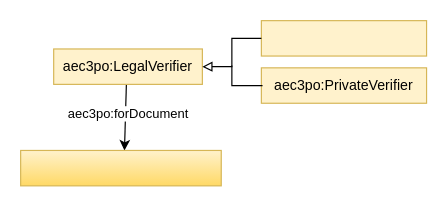
Image size: 447x206. Some labels were removed from this diagram. Each missing label, with the box of its shape:
aec3po:Document: (19, 149, 221, 186)
aec3po:StateVerifier: (260, 19, 427, 56)
